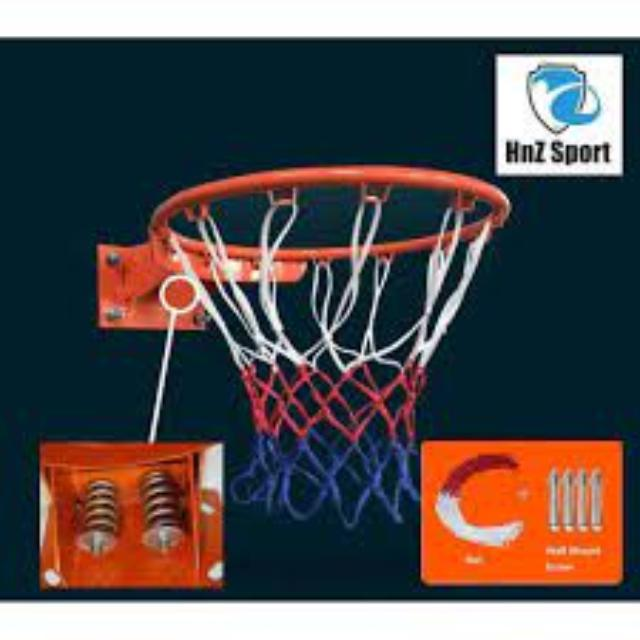rim: (158, 166, 510, 526)
